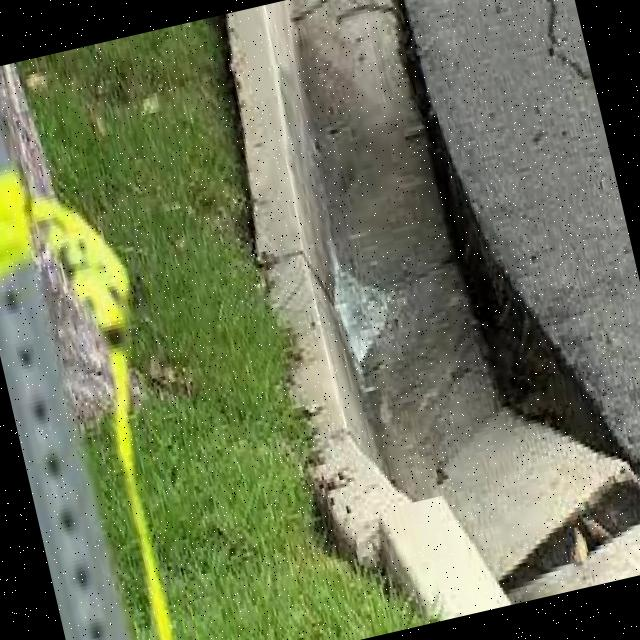curb: (204, 1, 440, 594)
